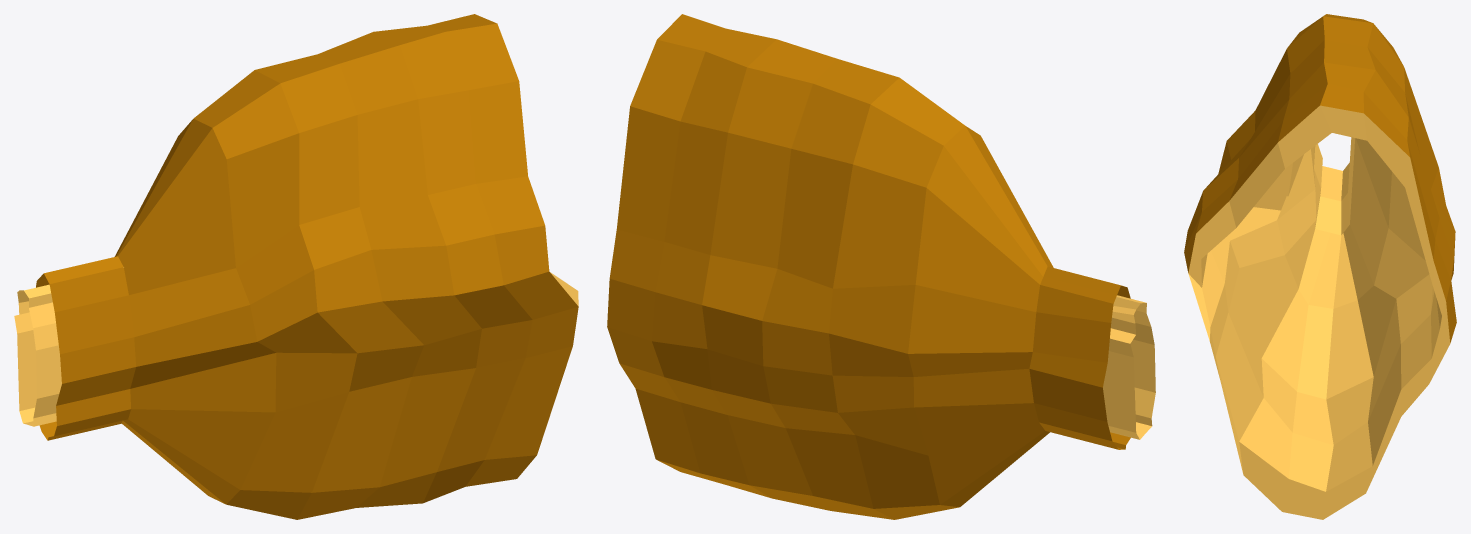
3 renders of one model, left to right at view 1: azimuth 30°, elevation 25°; view 2: azimuth 150°, elevation 25°; view 3: azimuth 270°, elevation 25°, orthographic. The views are drawn at different scales.
Visible parts, largest first — view 1: Jelly ear Jew's ear; view 2: Jelly ear Jew's ear; view 3: Jelly ear Jew's ear.
Boxes of the visible parts, x1=… form: Jelly ear Jew's ear: x1=14, y1=14, x2=578, y2=519; Jelly ear Jew's ear: x1=607, y1=14, x2=1155, y2=519; Jelly ear Jew's ear: x1=1184, y1=14, x2=1456, y2=519.
Bounding box in the file's own units: 238 × 210 × 125.
